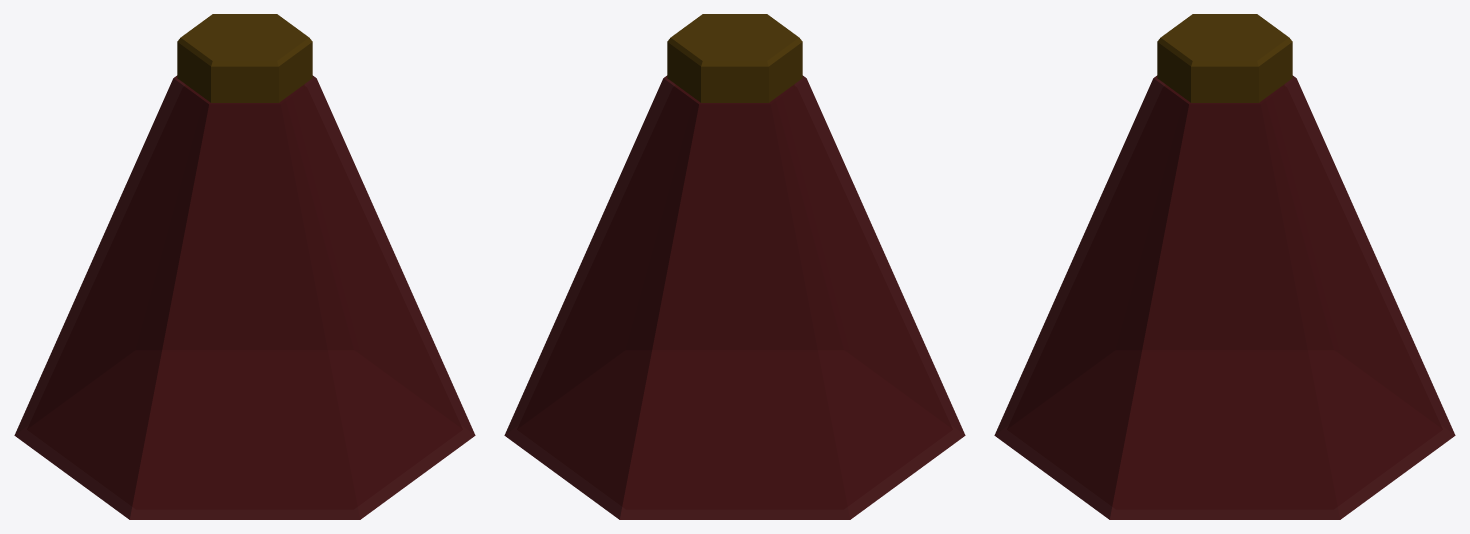
File: Potion.fbx
The picture shows the model from 3 angles, left to right: view 1: azimuth 30°, elevation 25°; view 2: azimuth 150°, elevation 25°; view 3: azimuth 270°, elevation 25°; orthographic projection.
Visible parts, largest first — view 1: Glass; view 2: Glass; view 3: Glass.
Boxes of the visible parts, bbox=[...] form: Glass: bbox=[14, 14, 475, 519]; Glass: bbox=[504, 14, 965, 519]; Glass: bbox=[994, 14, 1455, 519].
Size of the model in its own units: 173 by 190 by 200.
